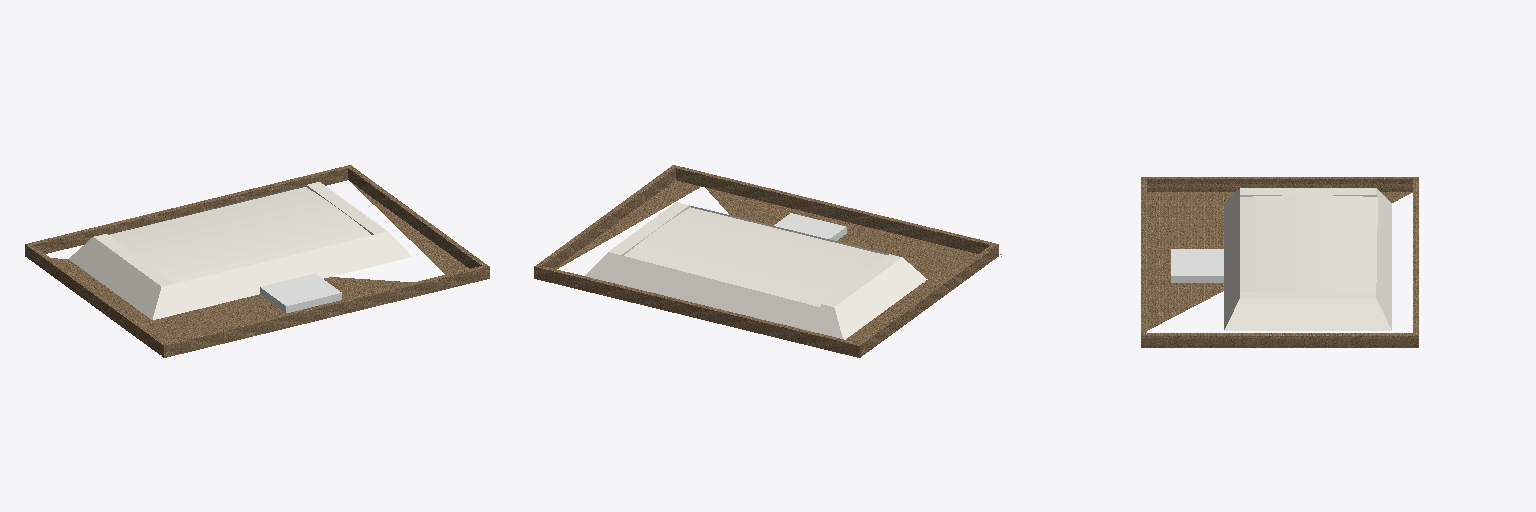
The picture shows the model from 3 angles: view 1: azimuth 30°, elevation 25°; view 2: azimuth 150°, elevation 25°; view 3: azimuth 270°, elevation 25°; orthographic projection.
Visible parts, largest first — view 1: Mesh1 Component_1_1 Model, Mesh2 Model, Mesh3 Model; view 2: Mesh1 Component_1_1 Model, Mesh2 Model, Mesh3 Model; view 3: Mesh1 Component_1_1 Model, Mesh2 Model, Mesh3 Model.
Part boxes in pixels (x1,y1,x2,y2): Mesh1 Component_1_1 Model: (69, 182, 411, 319); Mesh2 Model: (25, 165, 489, 357); Mesh3 Model: (260, 273, 341, 312); Mesh1 Component_1_1 Model: (585, 202, 927, 339); Mesh2 Model: (534, 165, 998, 357); Mesh3 Model: (774, 213, 846, 240); Mesh1 Component_1_1 Model: (1224, 188, 1391, 330); Mesh2 Model: (1141, 177, 1418, 347); Mesh3 Model: (1171, 249, 1223, 282).
Size of the model in its own units: 142 by 9.82 by 104.
Materials: 5 (3 with a texture image).